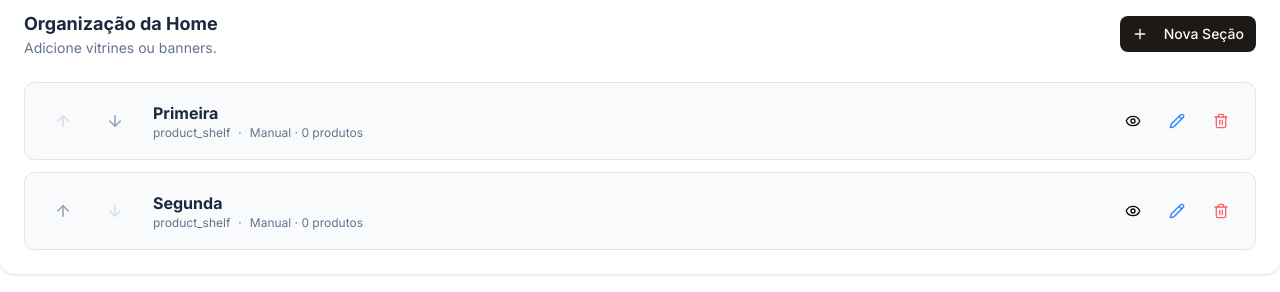
Scenario: SectionsTab › reordenar vitrines › troca a posição ao clicar em 'mover para baixo' na primeira seção
Click the button named "Mover seção para baixo" next to "Primeira".
click(115, 121)  # box [93,99,137,143]
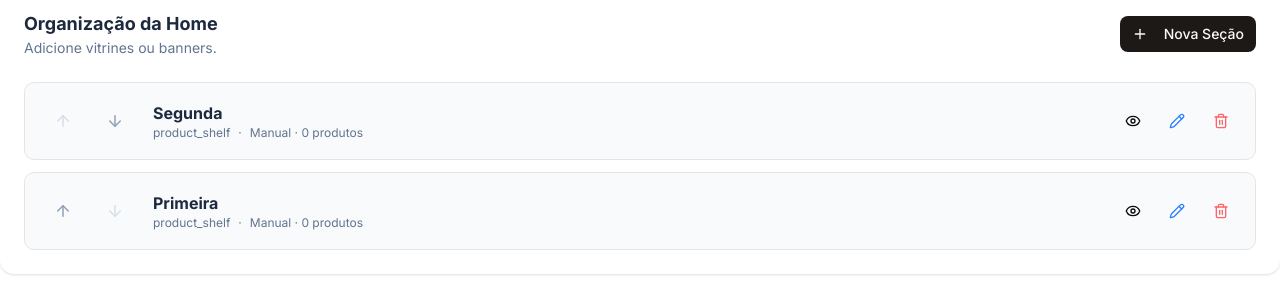
Now the headings read "Segunda", "Primeira", in this order, box [153,101,222,125]; [153,191,218,215]
